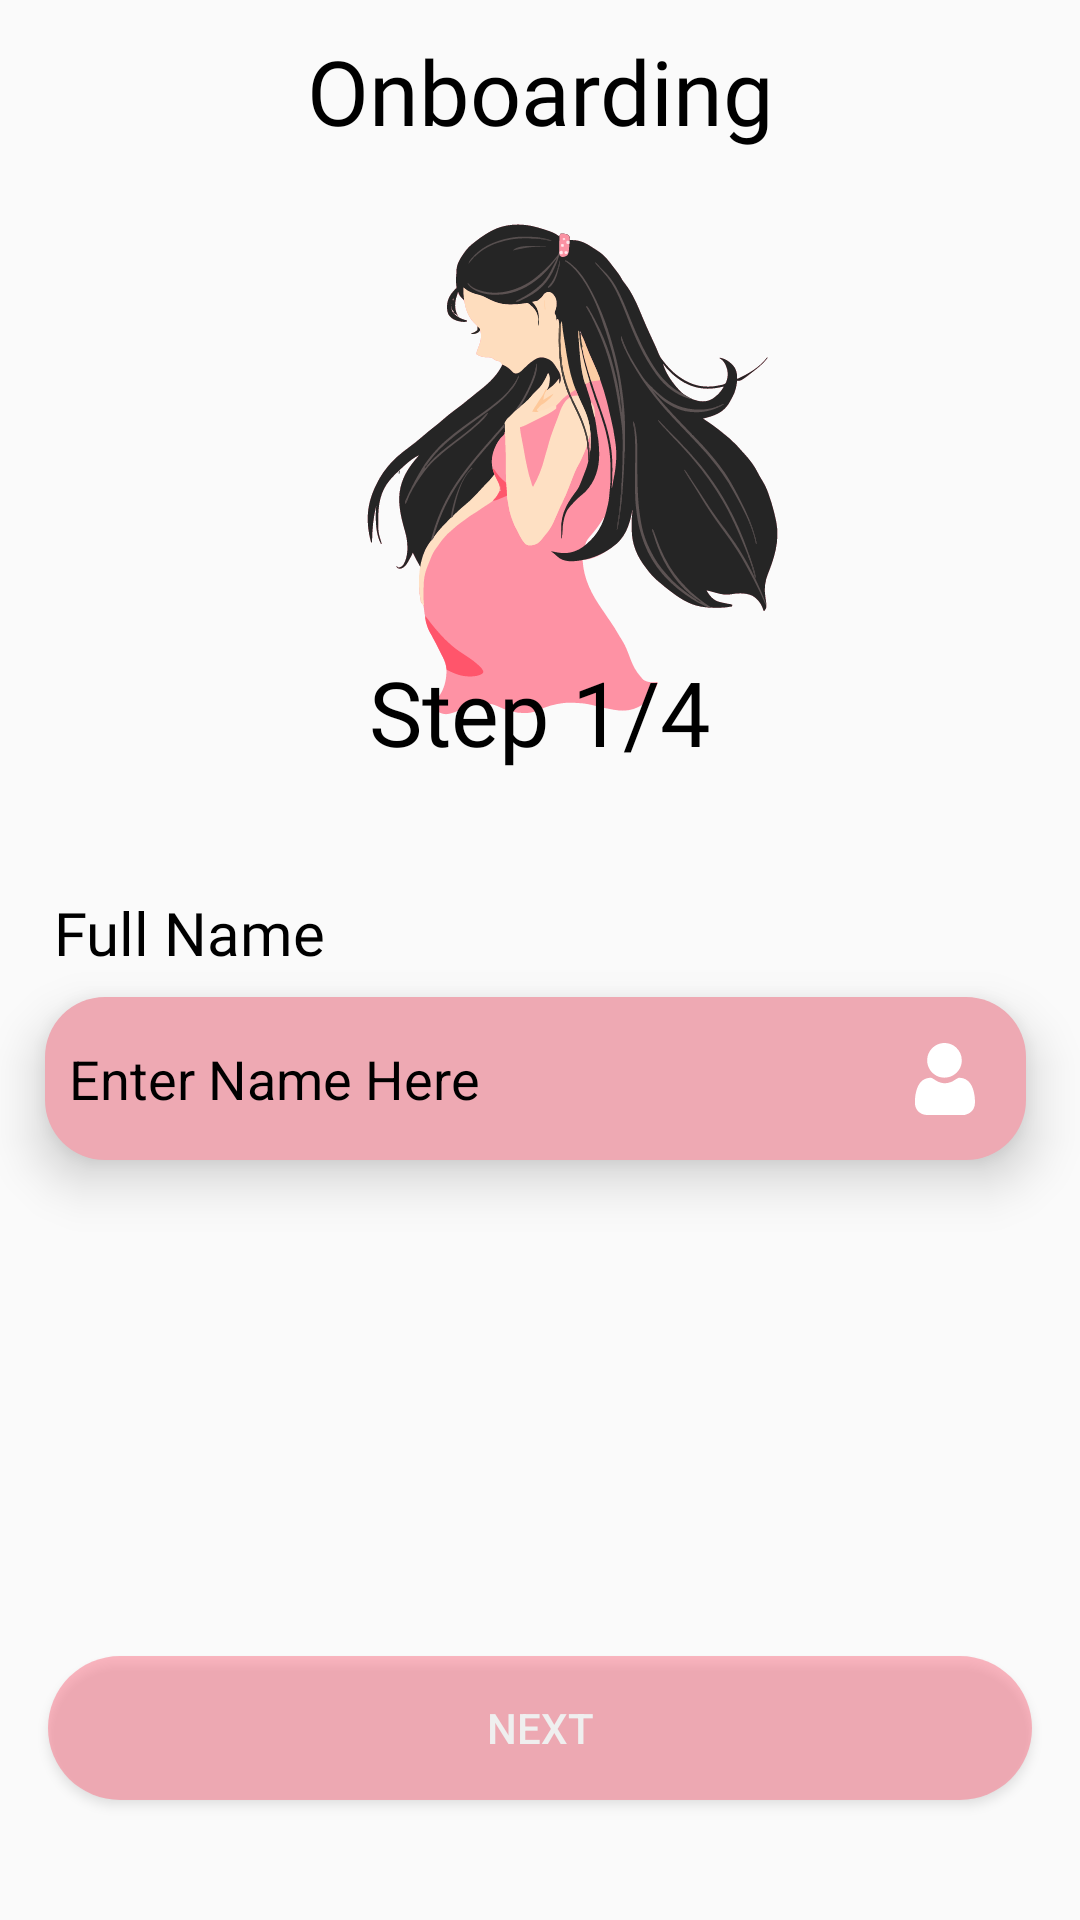

Icon bounding boxes for this 1080x1920 phone screenshot, format (x1, y1, x2, y2):
user: (915, 1043, 975, 1115)
